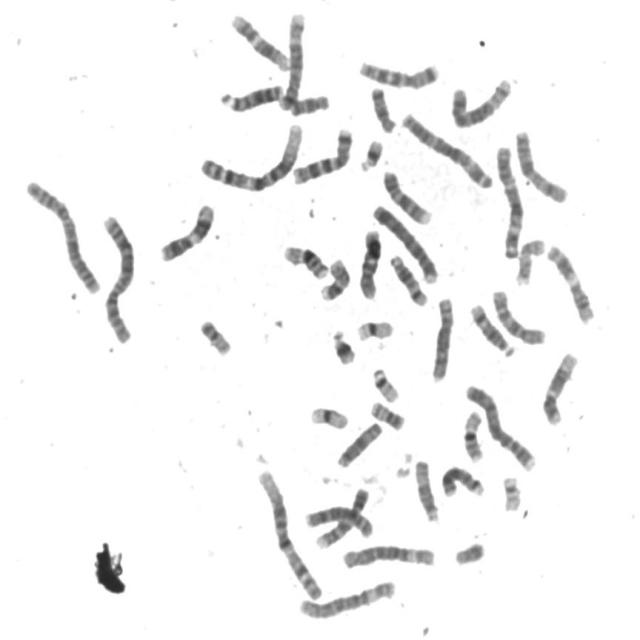A1: (252, 463, 324, 602), (195, 117, 305, 194)
A2: (20, 173, 102, 296), (96, 206, 137, 346)
A3: (395, 105, 495, 191), (492, 140, 525, 260)
B4: (461, 377, 538, 473), (368, 198, 442, 285)
B5: (446, 72, 514, 130), (275, 7, 307, 112)
C10: (487, 283, 547, 347), (354, 223, 384, 300)
C11: (543, 238, 597, 326), (154, 198, 216, 264)
C12: (226, 8, 292, 72), (538, 346, 580, 426)
C6: (294, 574, 398, 621), (337, 538, 437, 571)
C7: (287, 121, 354, 186), (353, 54, 441, 90)
C8: (300, 500, 375, 539), (425, 290, 456, 384)
C9: (312, 488, 370, 552), (378, 164, 433, 226)
D13: (215, 76, 284, 114), (436, 459, 486, 499)
D14: (465, 297, 517, 359), (384, 248, 430, 307)
D15: (332, 416, 384, 470), (409, 454, 441, 524)
E16: (278, 238, 330, 281), (458, 404, 486, 464)
E17: (511, 232, 546, 288), (315, 252, 352, 302)
E18: (365, 80, 399, 134), (284, 88, 331, 117)
F19: (304, 399, 350, 432), (352, 314, 395, 342)
F20: (194, 313, 233, 357), (365, 394, 407, 432)
G21: (327, 323, 358, 366), (354, 133, 385, 173)
G22: (367, 362, 401, 403), (497, 470, 524, 513)
X: (510, 124, 570, 205)
Y: (449, 536, 487, 567)
